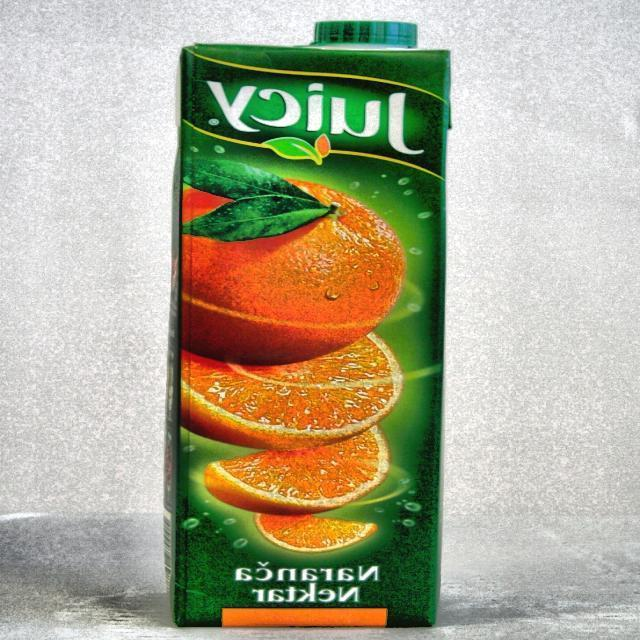cardboard: (164, 22, 453, 628)
